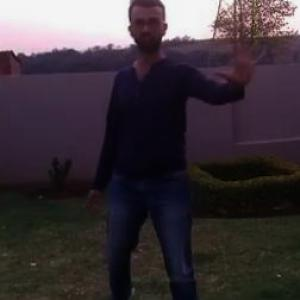follow_hand: (214, 32, 267, 91)
